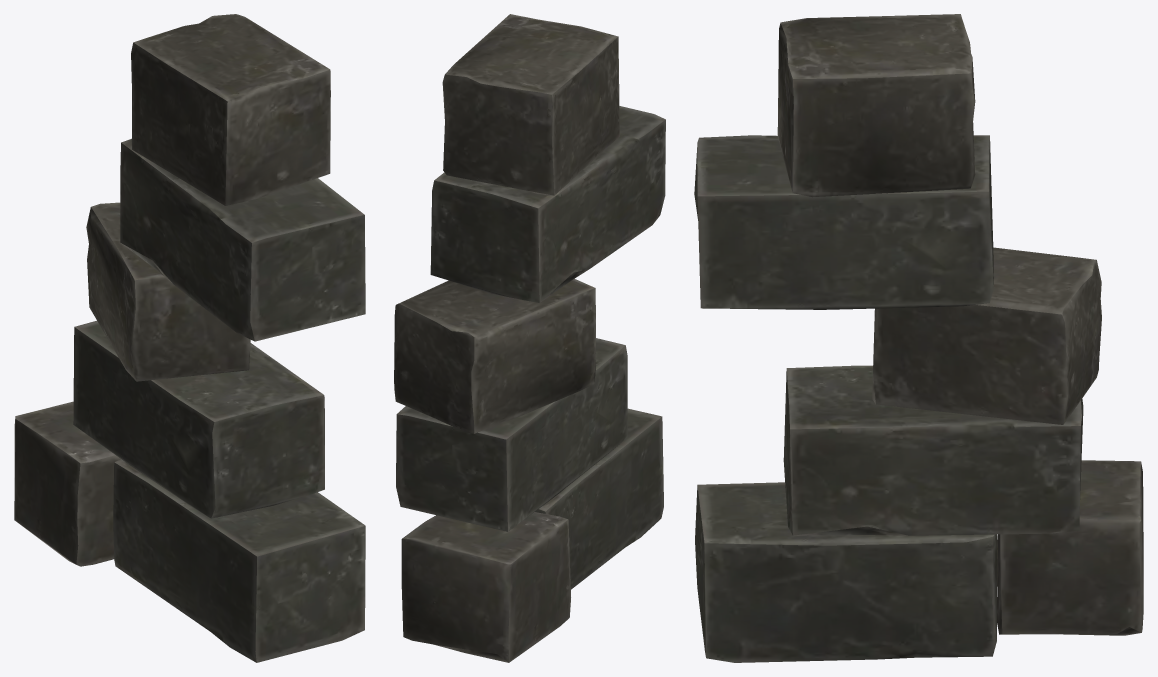
3 views of the same model, side by side, from view 1: azimuth 30°, elevation 25°; view 2: azimuth 150°, elevation 25°; view 3: azimuth 270°, elevation 25° (orthographic). The views are drawn at different scales.
Parts seen in each view (by area): view 1: SM_DR_Broken_Wall_Edge_01_LOD0; view 2: SM_DR_Broken_Wall_Edge_01_LOD0; view 3: SM_DR_Broken_Wall_Edge_01_LOD0.
Boxes of the visible parts, x1,y1,x2,y2 form: SM_DR_Broken_Wall_Edge_01_LOD0: (14, 14, 365, 662); SM_DR_Broken_Wall_Edge_01_LOD0: (394, 14, 665, 662); SM_DR_Broken_Wall_Edge_01_LOD0: (694, 14, 1143, 662).
Size of the model in its own units: 1.58 by 5.07 by 3.5.
1 material, 1 textured.
